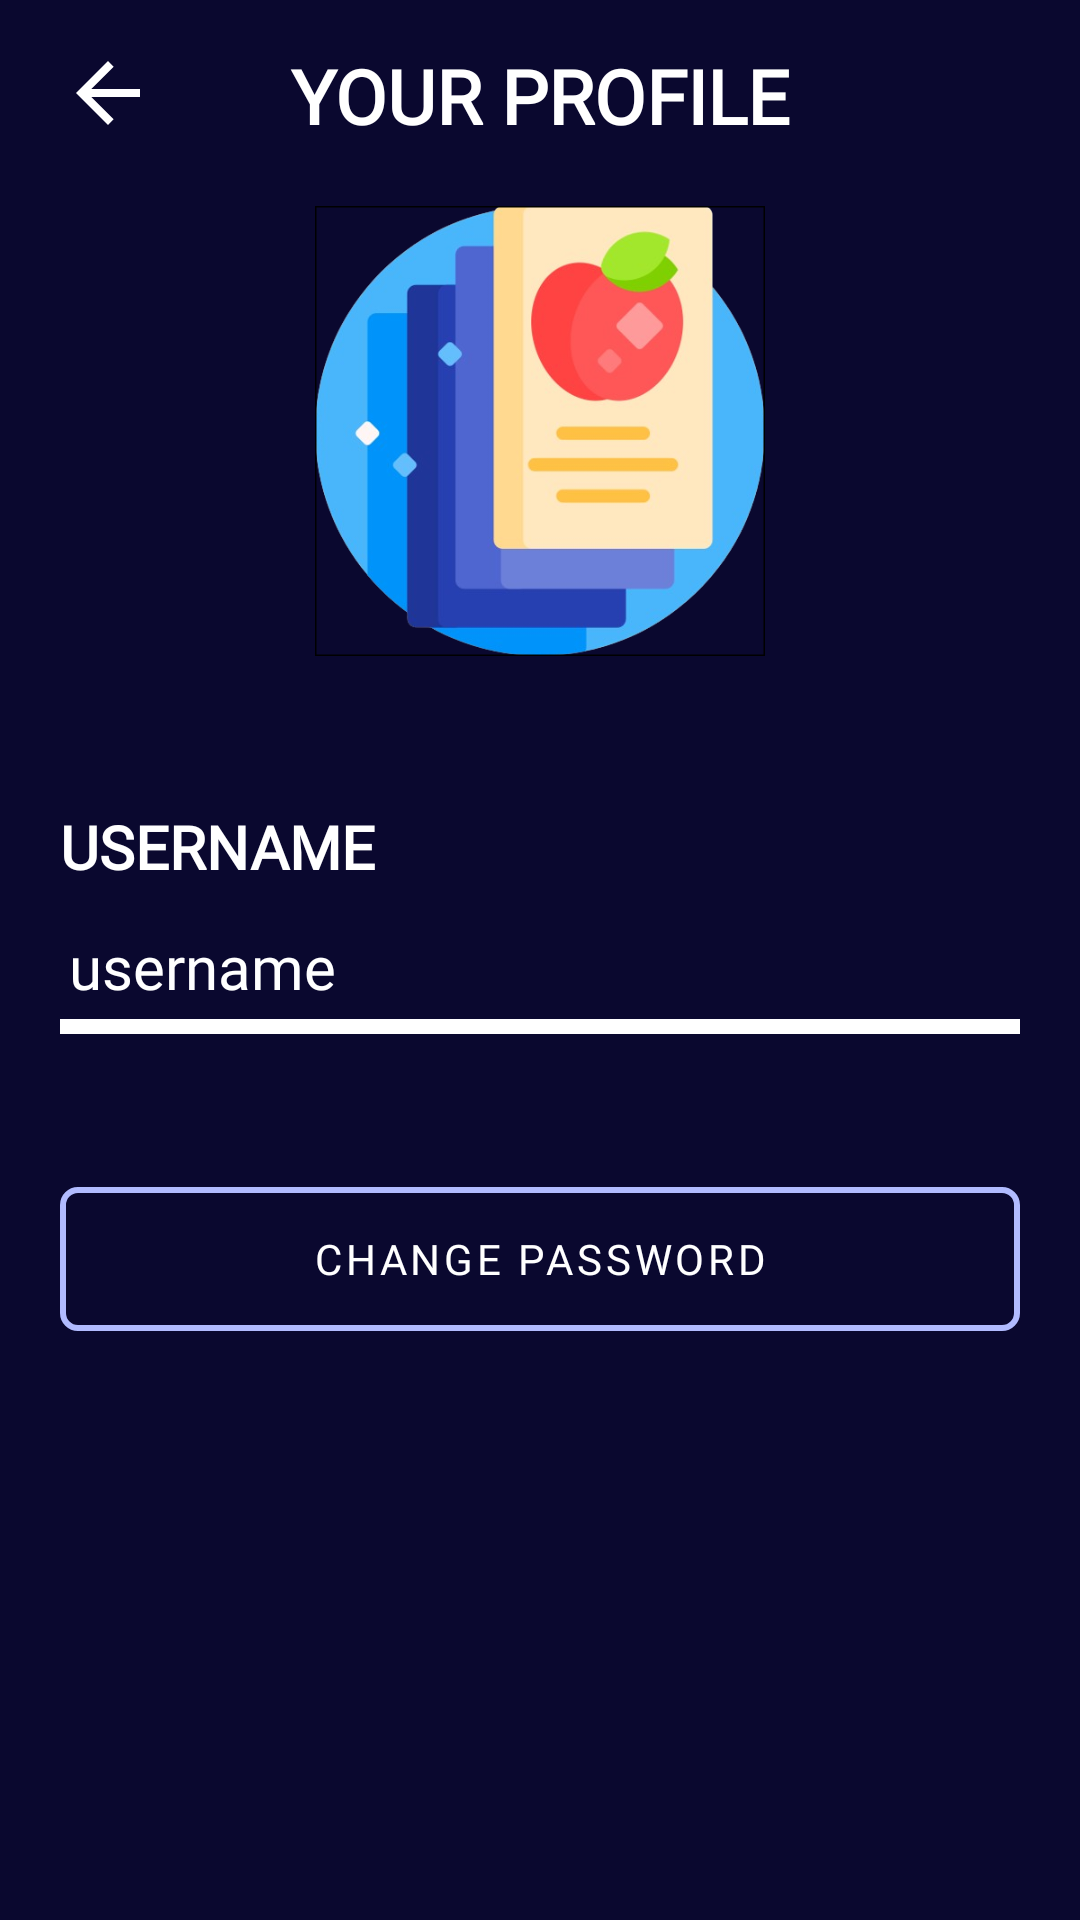

Screen size 1080px×1920px. Icon name, then its center in pixels as (x,y):
arrow back: (108,93)
